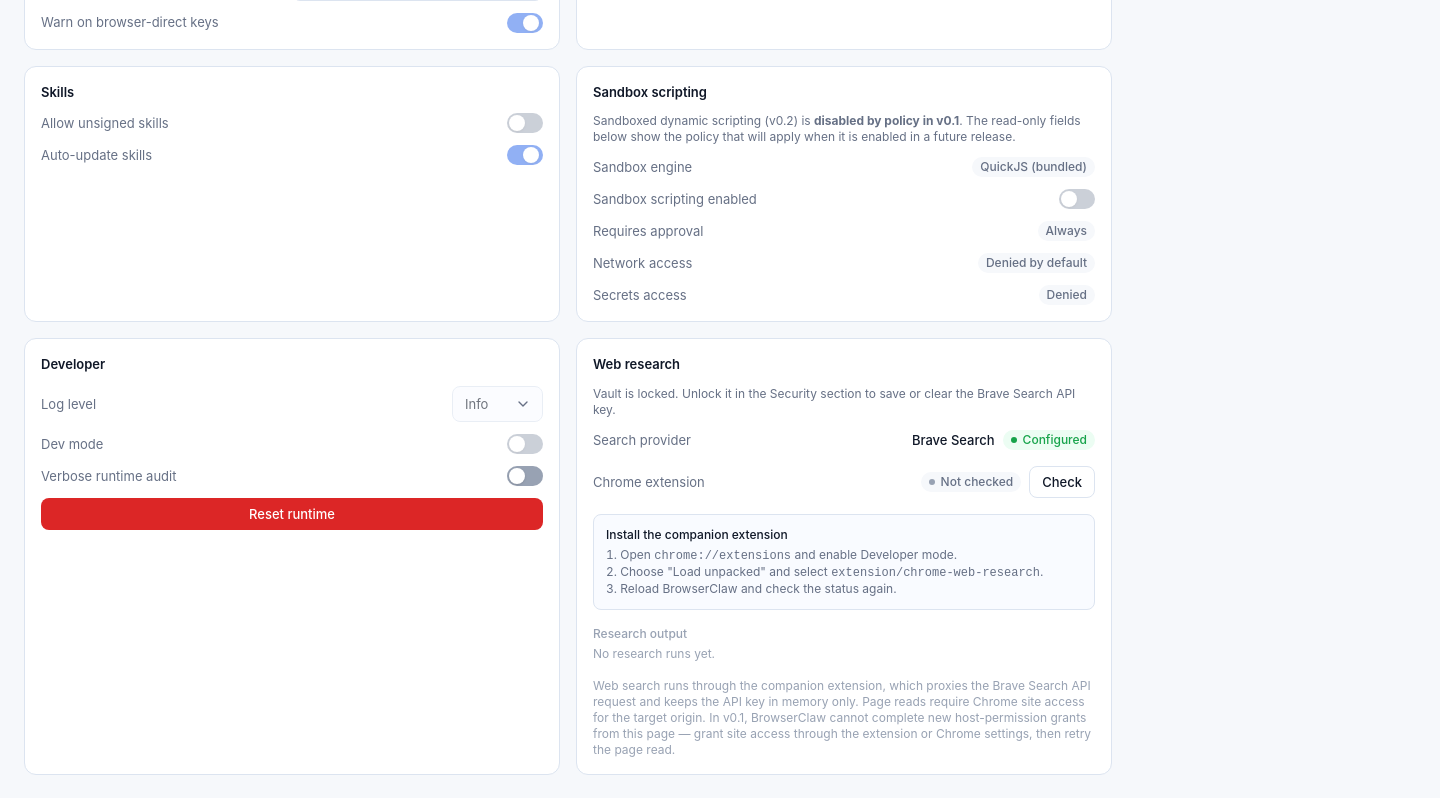
Test: C1 (FIX5) — capability status wired into SettingsScreen › C1: vault locked → Vault locked row, Not ready live search
The width and height of the screenshot is (1440, 798).
(page scrolled)
Click the button "Check": [1062, 482] box [1029, 466, 1095, 498]
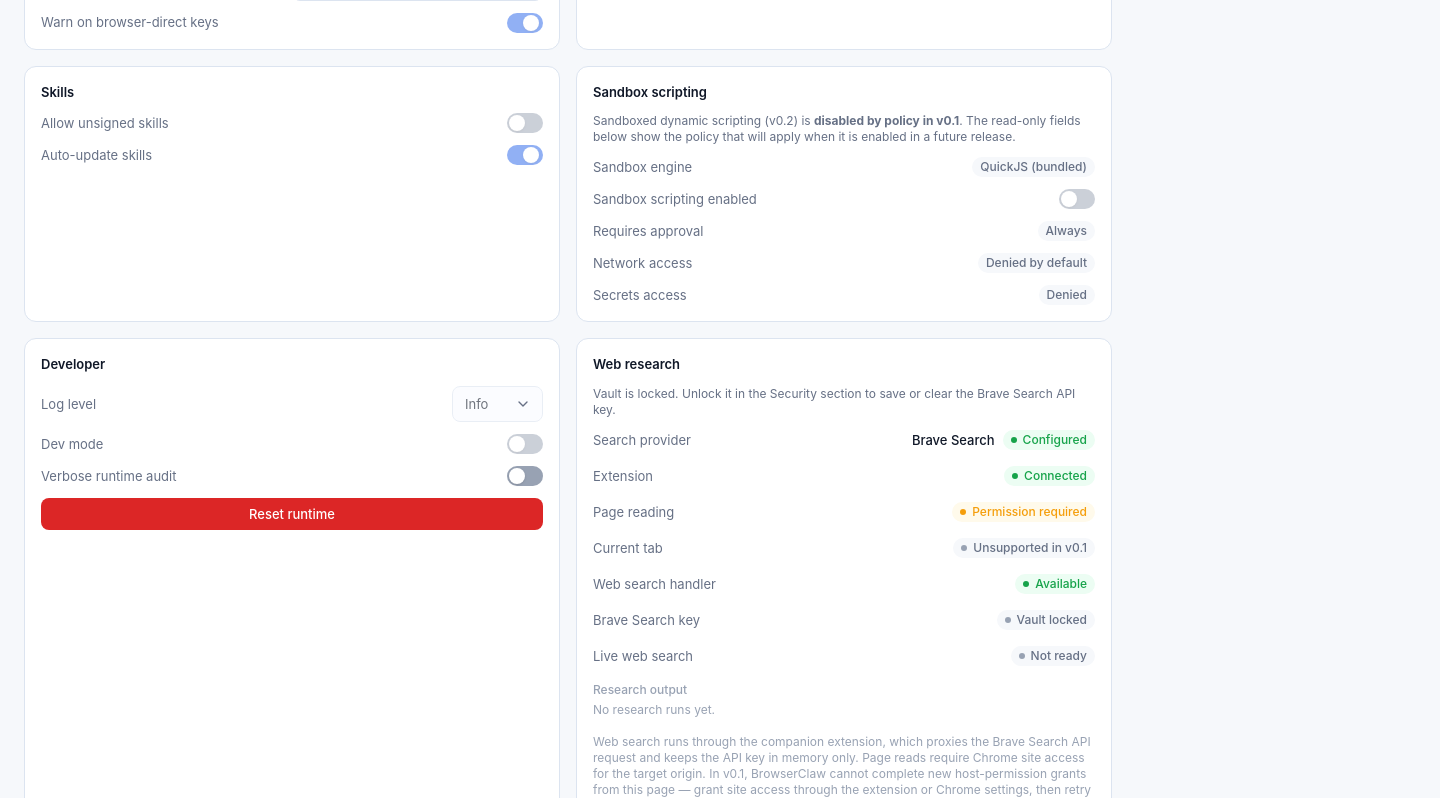
Result: the text "Vault locked" is shown at [996, 610, 1095, 630]
Result: the text "Not ready" is shown at [1011, 646, 1095, 666]
